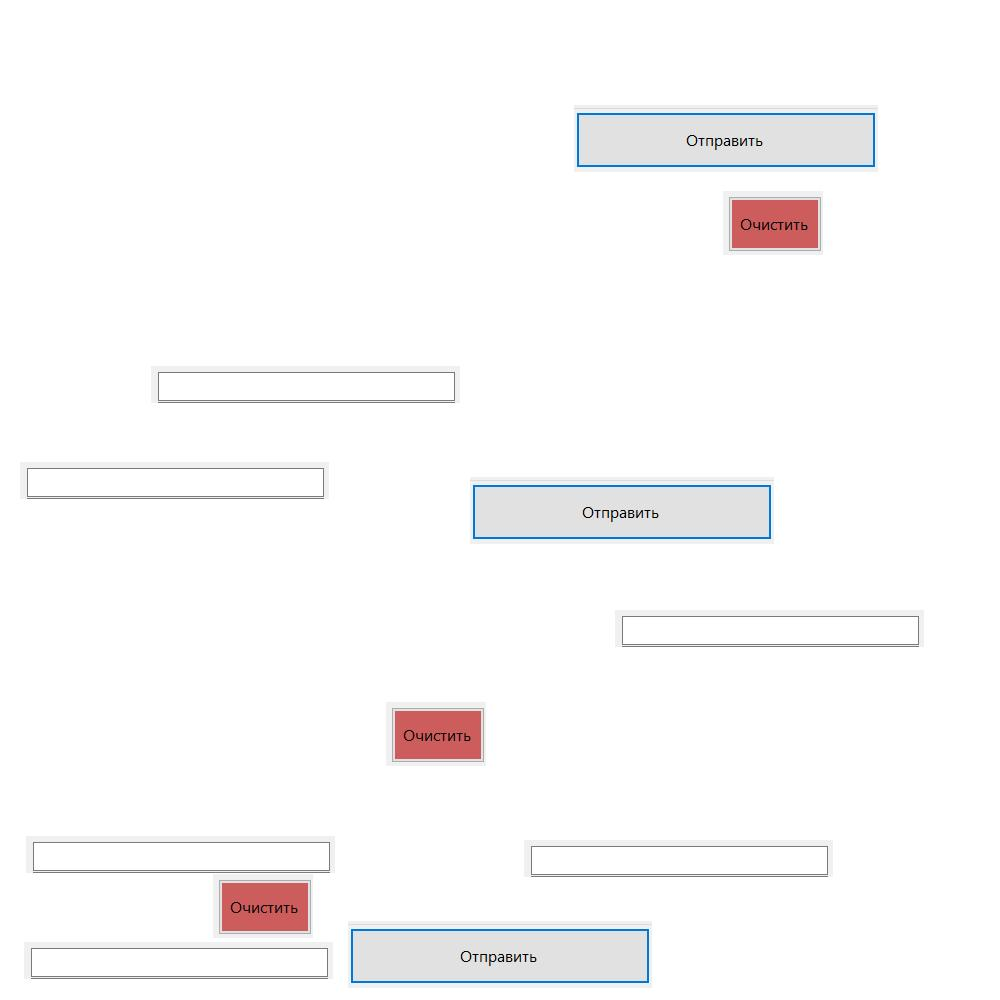Button: (470, 477, 774, 544), (348, 921, 652, 988), (574, 105, 878, 172), (723, 191, 823, 255), (386, 702, 486, 766), (213, 874, 313, 938)
EditText-: (151, 366, 460, 403), (524, 840, 833, 877), (26, 836, 335, 873), (24, 942, 333, 979), (615, 610, 924, 647), (20, 462, 329, 499)
